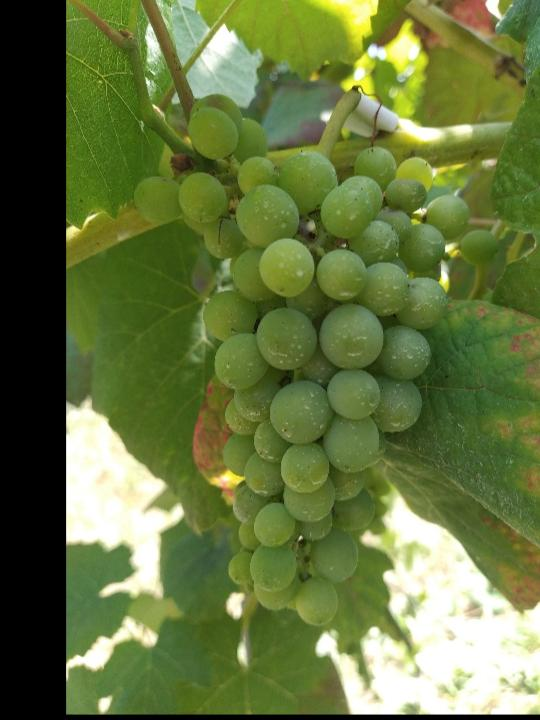grape: (124, 91, 496, 633)
